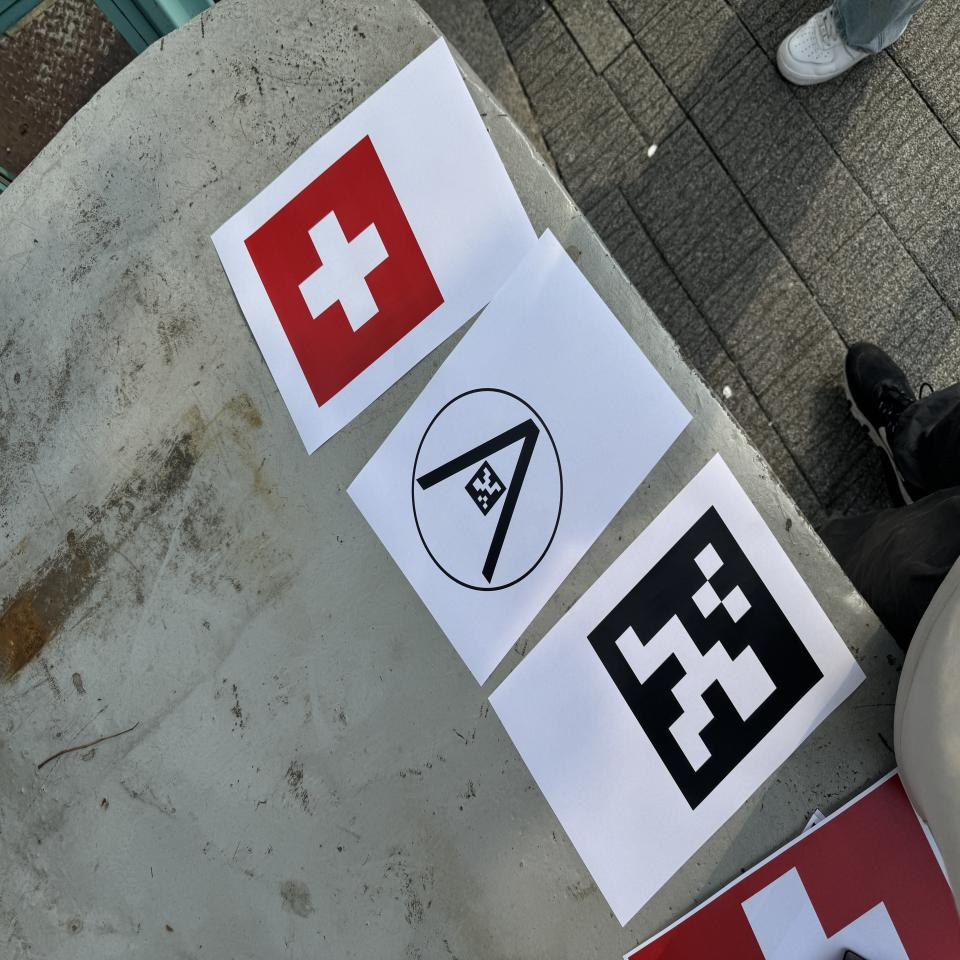ArUro mark: (589, 506, 823, 809)
rescue point: (244, 135, 444, 407)
vertiport: (408, 385, 567, 597)
